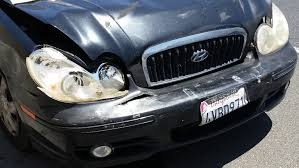Broken-glass: (25, 46, 128, 104)
Dent: (16, 1, 149, 61)
Scratch: (189, 66, 266, 87)
